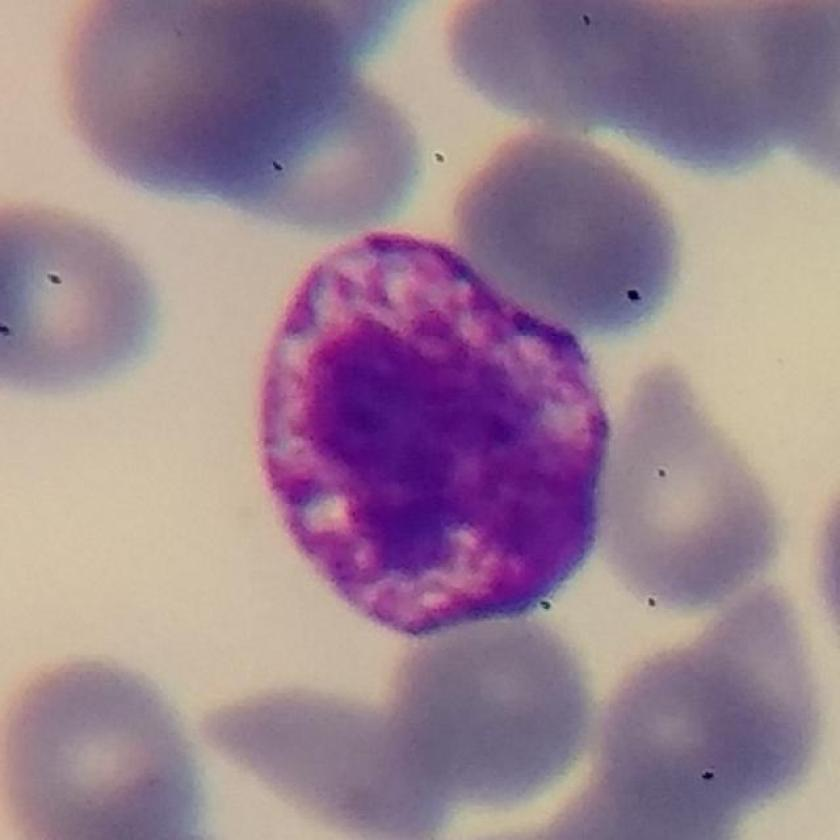basophil: (253, 214, 621, 659)
